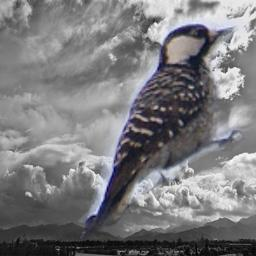Woodpecker: (70, 10, 254, 248)
